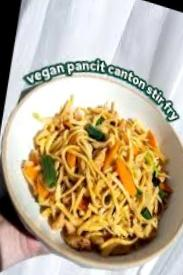pancit bihon: (26, 103, 174, 253)
